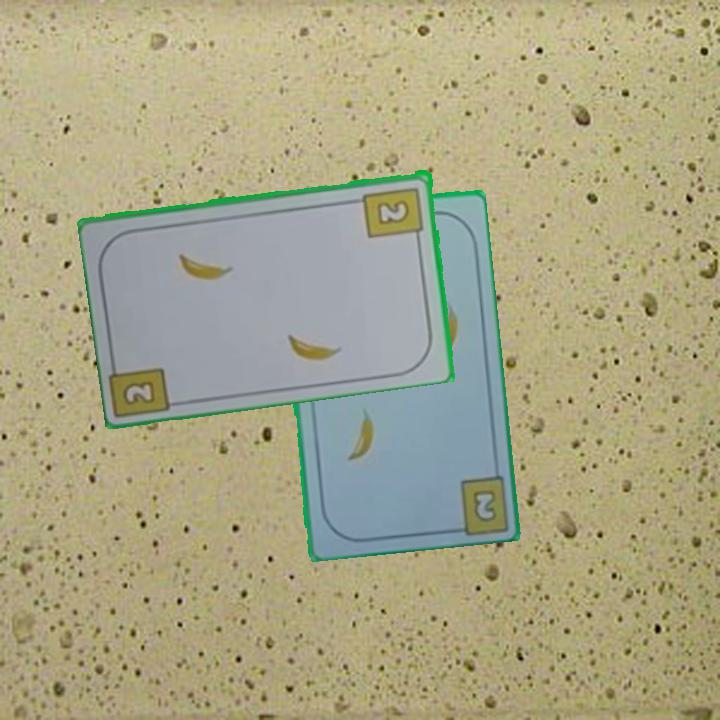2b: (360, 183, 427, 244), (122, 380, 155, 405), (472, 489, 496, 522)
